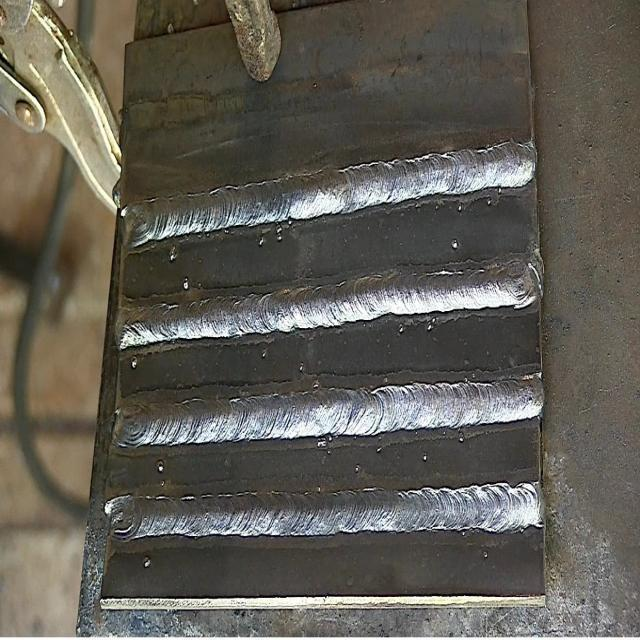Good Welding: (115, 245, 542, 360), (121, 139, 536, 254), (112, 373, 544, 456), (105, 482, 541, 545)
